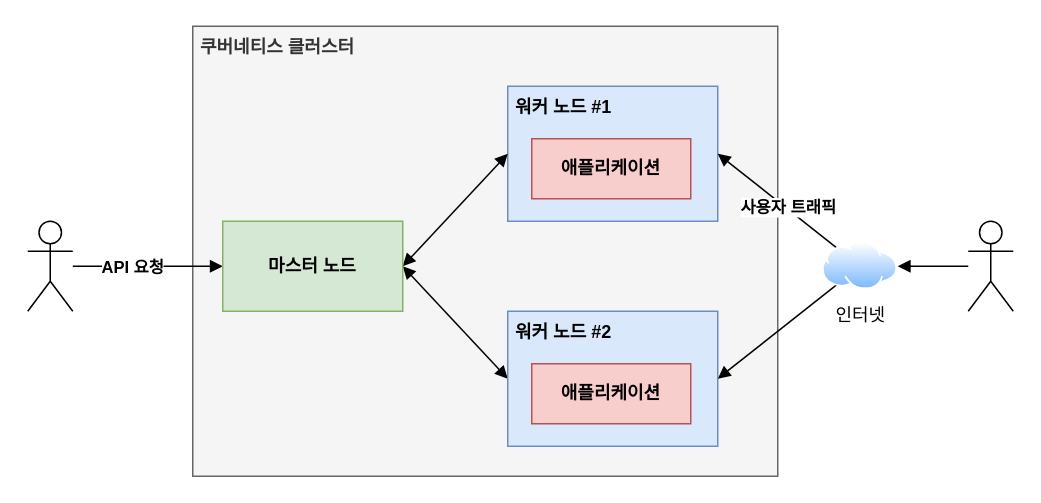
Image size: 1041x503. Some labels were removed from this diagram. The shapes that lost their labels are listed below. From the top down, each one's centre as x and y in pixels, then its label:
point (49, 265): 개발자
point (990, 265): 사용자
